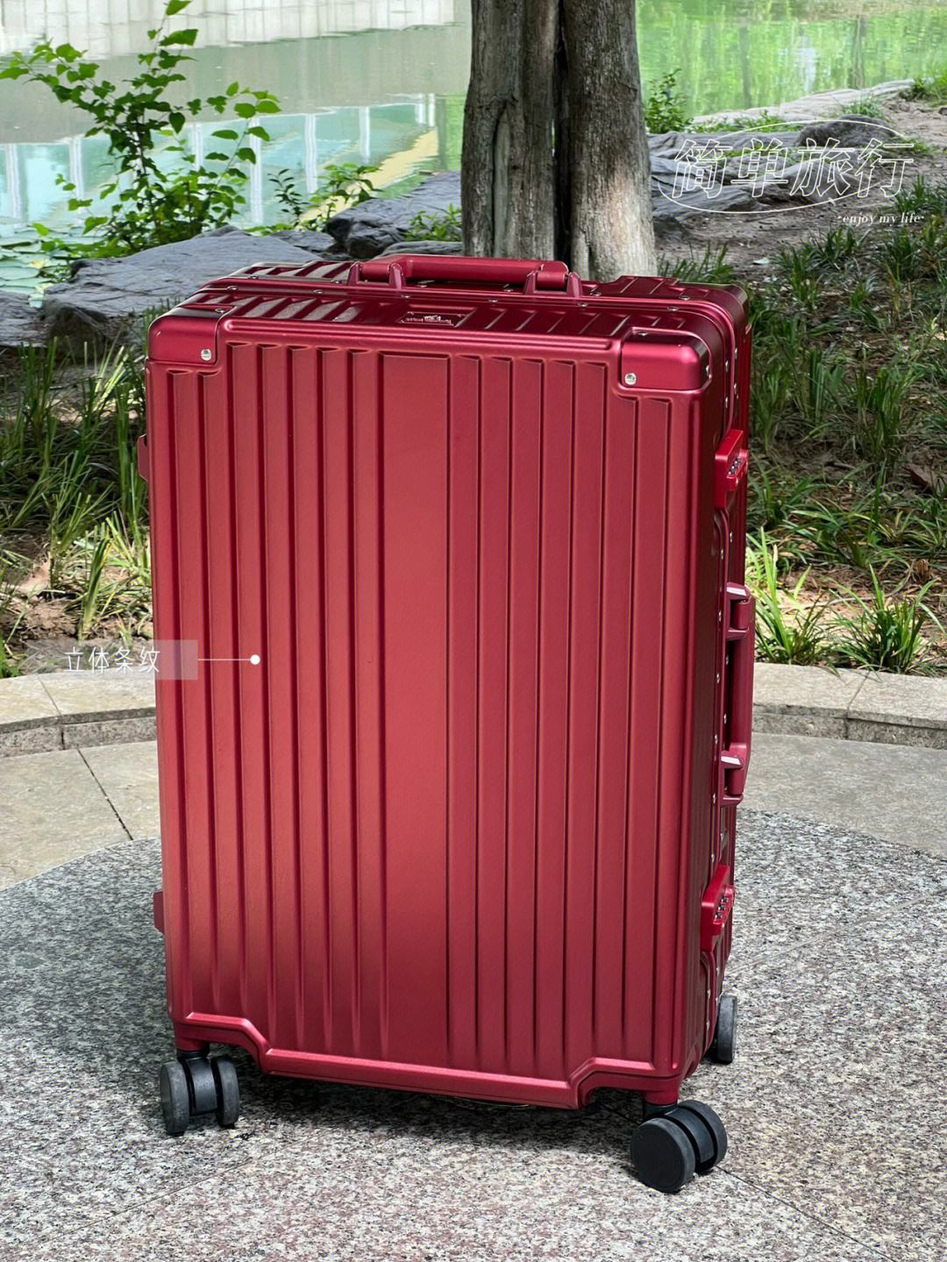box: (147, 263, 752, 1110)
handle: (348, 256, 581, 299), (718, 581, 756, 806)
lock: (699, 864, 735, 952), (714, 429, 751, 509)
wheel: (631, 1099, 728, 1193), (160, 1054, 241, 1137), (708, 995, 737, 1066)
